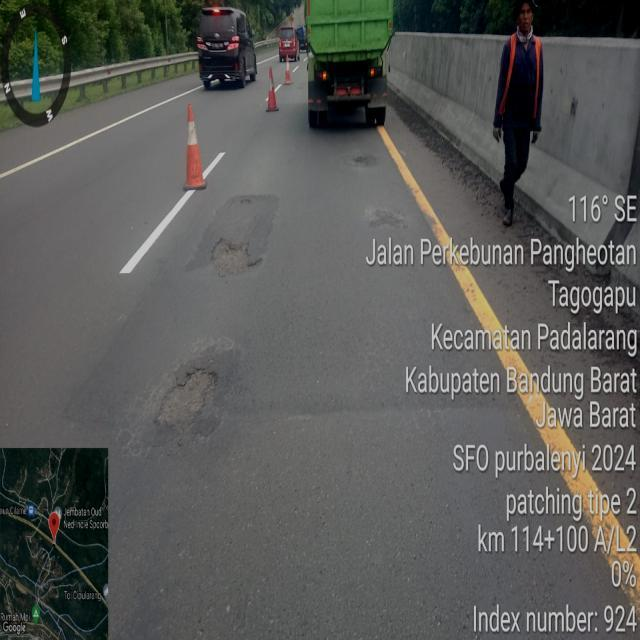Buraco: (151, 366, 222, 438), (207, 236, 266, 280), (365, 205, 411, 232), (341, 151, 378, 168)
